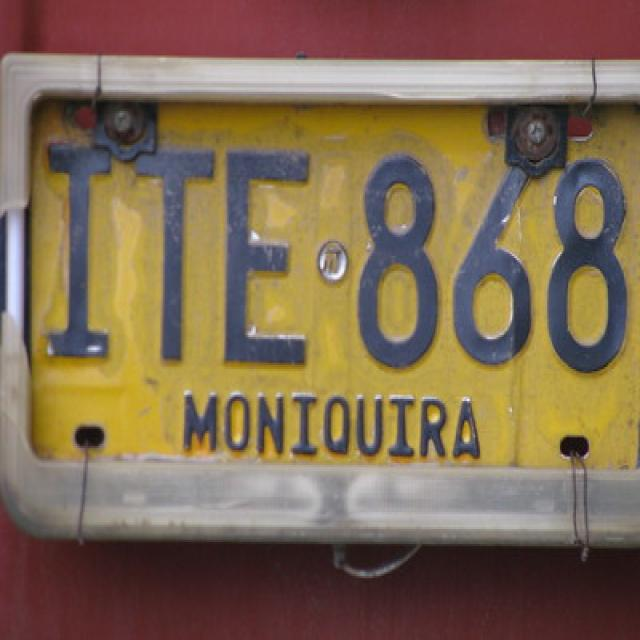placa_carro: (3, 56, 640, 536)
